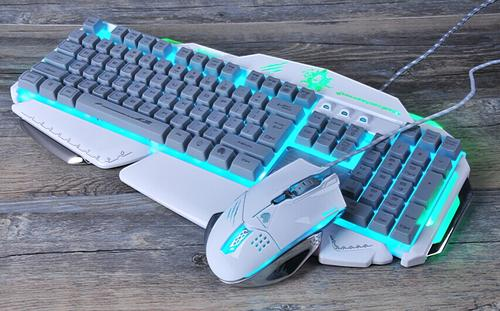keyboard: (12, 15, 471, 268)
mouse: (204, 160, 345, 285)
